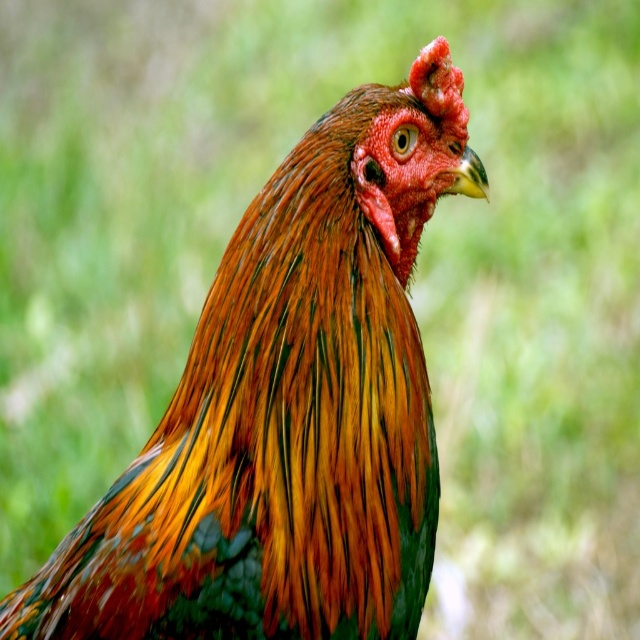Chicken: (0, 36, 491, 640)
